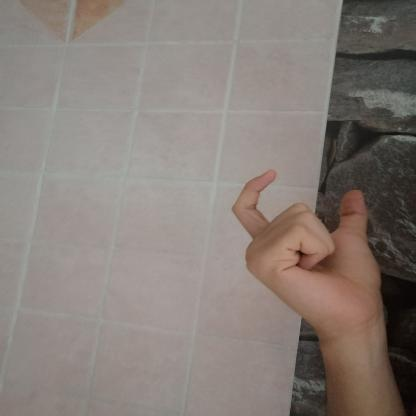NOON: (218, 160, 398, 338)
